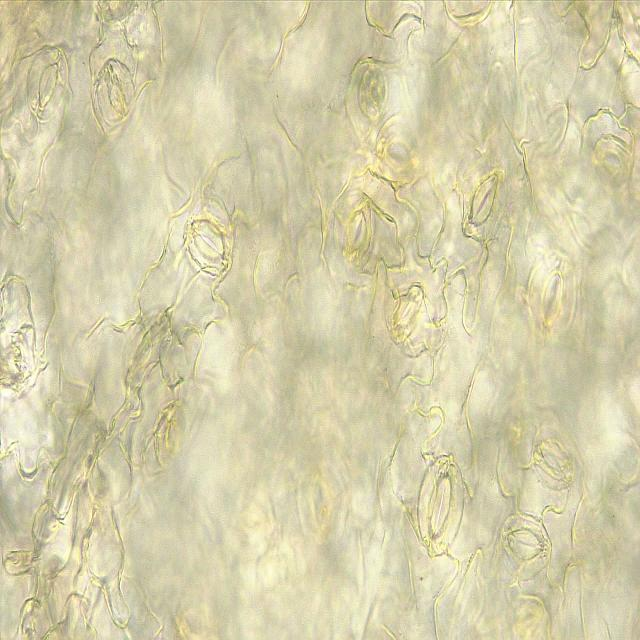Stomata: (416, 453, 465, 557), (528, 245, 578, 342), (180, 195, 234, 282), (384, 269, 434, 352), (461, 156, 507, 241), (499, 512, 552, 582), (331, 189, 376, 271), (26, 42, 68, 122), (95, 54, 136, 128), (532, 425, 575, 492)
